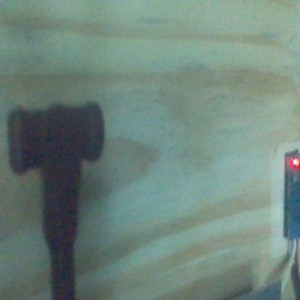palu: (7, 100, 105, 300)
